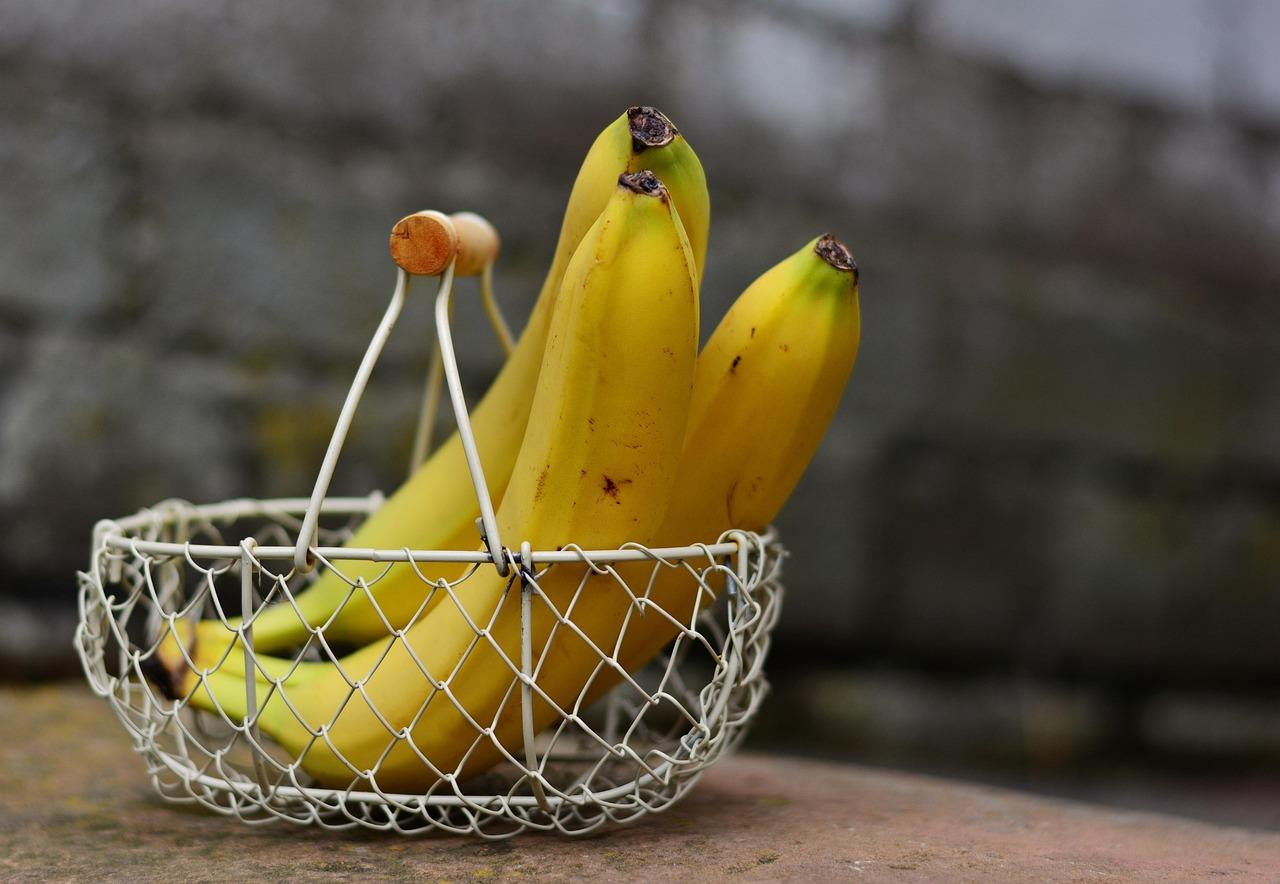banana: (108, 61, 875, 773)
